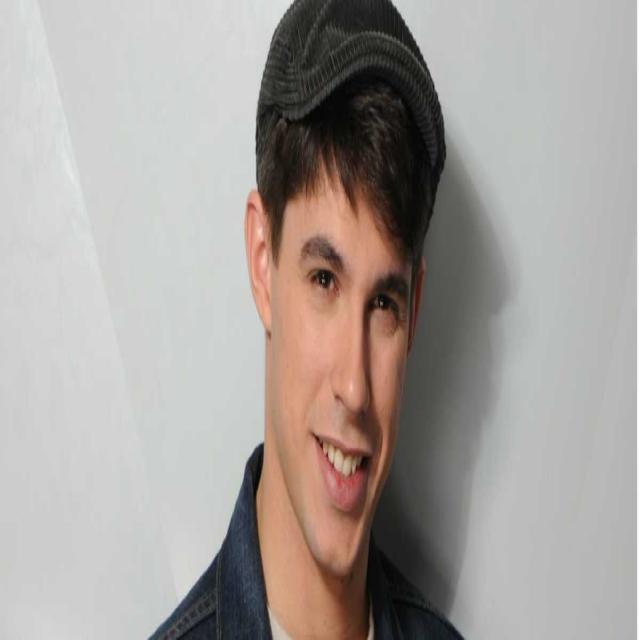human: (162, 3, 468, 640)
